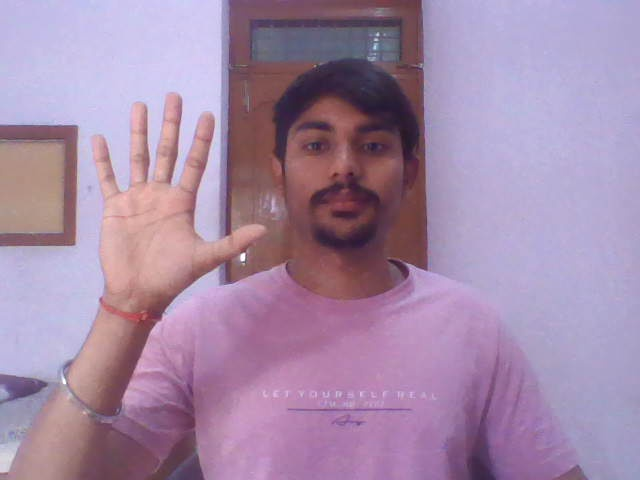Hello: (82, 81, 270, 298)
